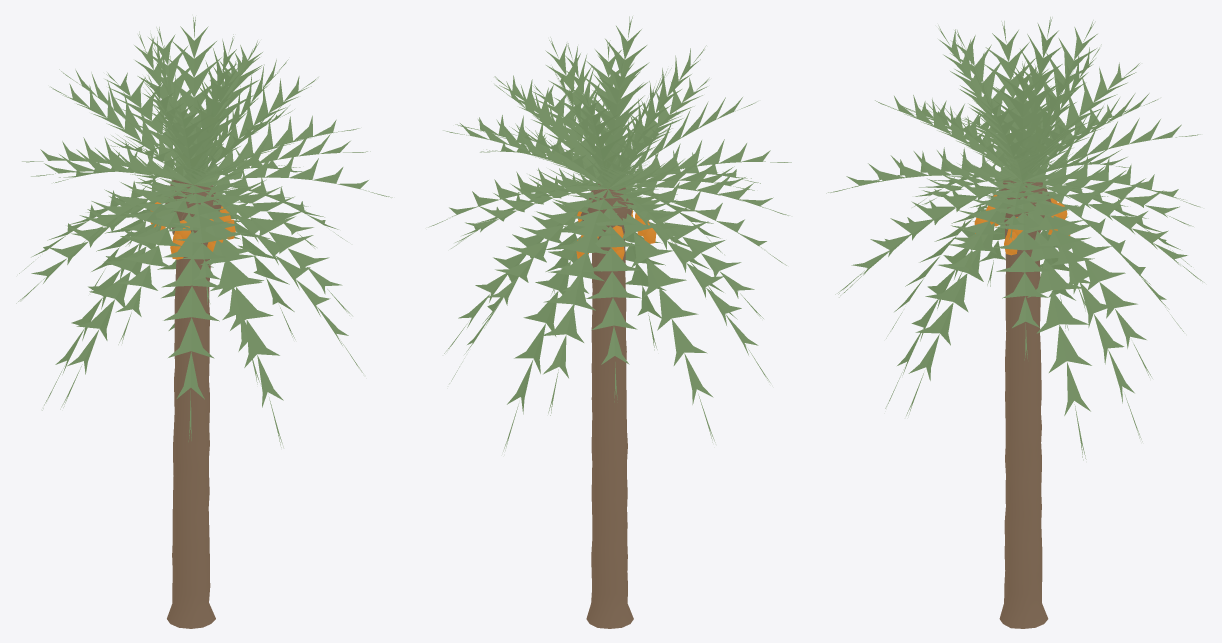
Rendered from Blender_DatePalm_1.glb.
The picture shows the model from 3 angles, left to right: view 1: azimuth 30°, elevation 25°; view 2: azimuth 150°, elevation 25°; view 3: azimuth 270°, elevation 25°; orthographic projection. The views are drawn at different scales.
Parts seen in each view (by area): view 1: Blender_DatePalm_1; view 2: Blender_DatePalm_1; view 3: Blender_DatePalm_1.
Boxes of the visible parts, box(x1,y1,x2,y2) form: Blender_DatePalm_1: box(16, 17, 392, 628); Blender_DatePalm_1: box(428, 16, 791, 628); Blender_DatePalm_1: box(826, 17, 1204, 628).
Bounding box in the file's own units: 10.63 × 17.7 × 10.4.
